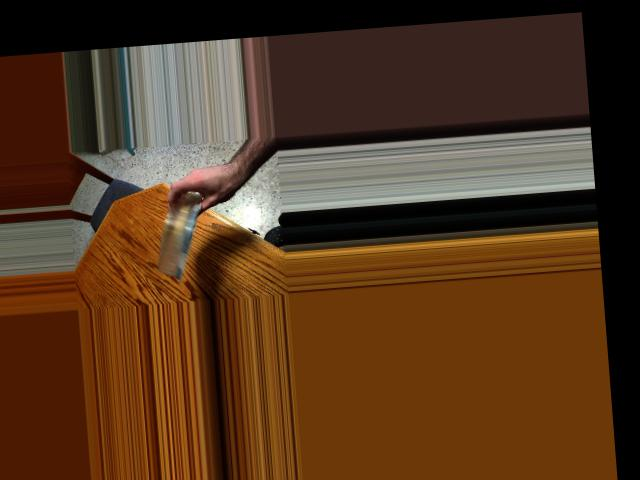cheese: (156, 182, 199, 282)
